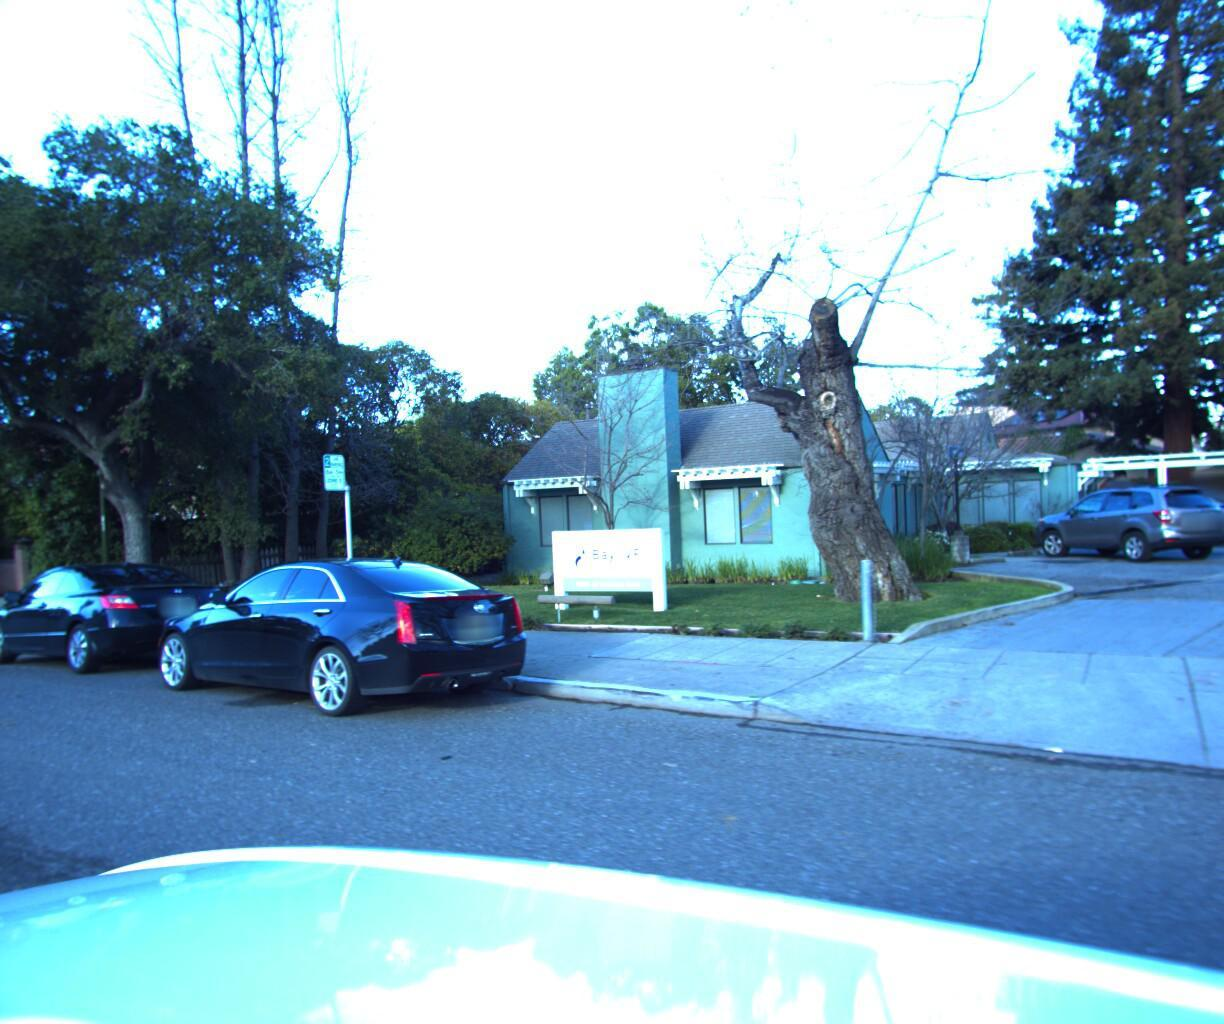car: (121, 547, 555, 746), (0, 551, 256, 690)
